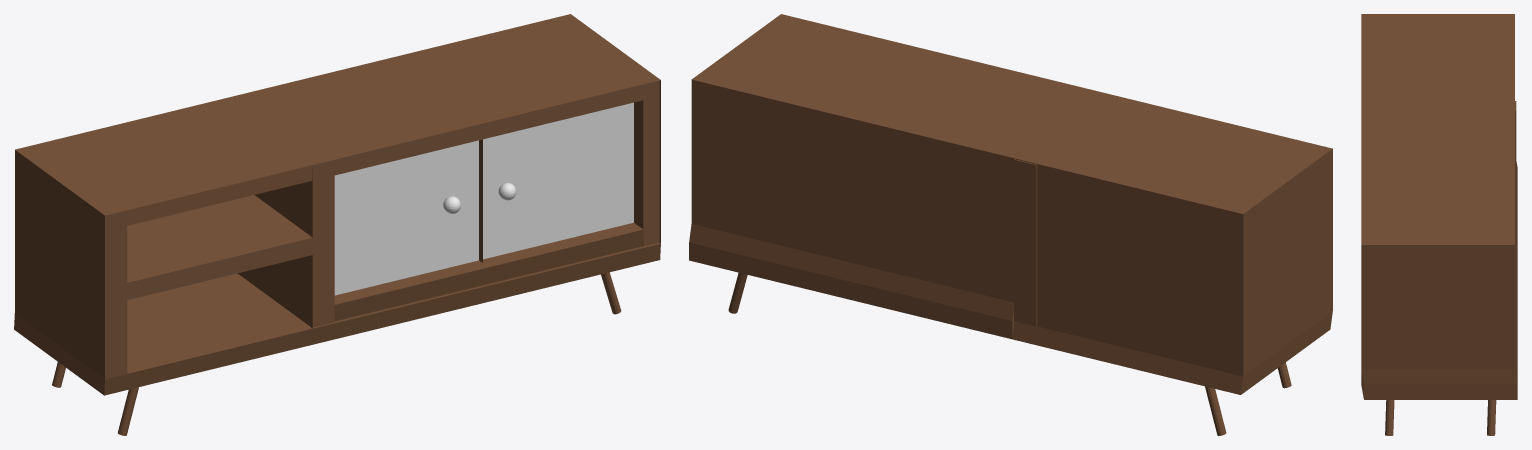
Rendered from Rack .fbx.
3 views of the same model, side by side, from view 1: azimuth 30°, elevation 25°; view 2: azimuth 150°, elevation 25°; view 3: azimuth 270°, elevation 25° (orthographic). The views are drawn at different scales.
Visible parts, largest first — view 1: Cube.012; view 2: Cube.012; view 3: Cube.012, Cylinder.010, Cylinder.009.
Part boxes in pixels (x1,y1,x2,y2): Cube.012: (14,14,660,395); Cube.012: (689,14,1332,394); Cube.012: (1361,14,1517,399); Cylinder.010: (1385,400,1394,435); Cylinder.009: (1487,400,1496,435).
Size of the model in its own units: 324 by 132 by 92.61.
